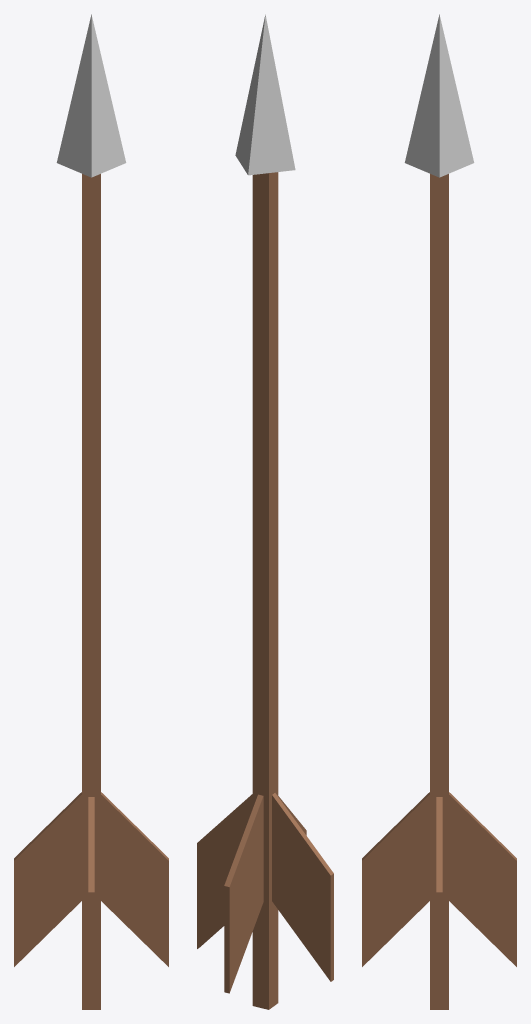
The model's file is P_narissa_arrow.fbx.
3 renders of one model, left to right at view 1: azimuth 90°, elevation 25°; view 2: azimuth 150°, elevation 25°; view 3: azimuth 270°, elevation 25°, orthographic.
Parts seen in each view (by area): view 1: pCube2; view 2: pCube2; view 3: pCube2.
Part boxes in pixels (x1,y1,x2,y2): pCube2: (14,14,168,1009); pCube2: (197,14,333,1009); pCube2: (362,14,516,1009).
Bounding box in the file's own units: 24.67 × 175 × 24.67.
